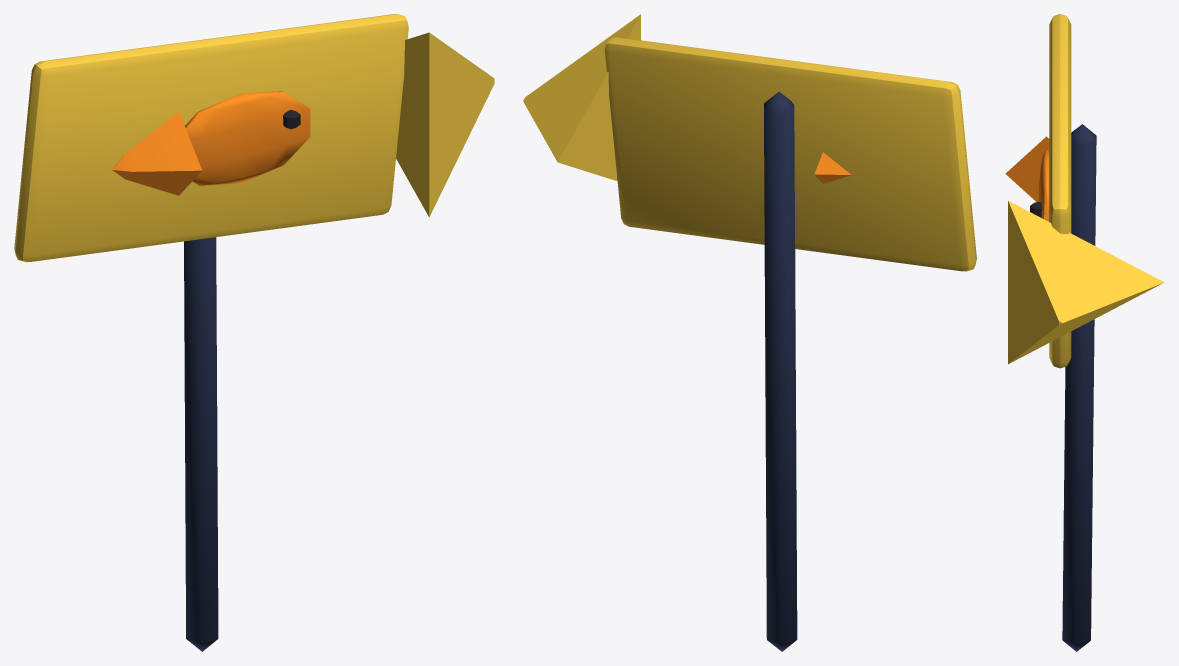
File: W1_Sign_B.fbx
3 renders of one model, left to right at view 1: azimuth 30°, elevation 25°; view 2: azimuth 150°, elevation 25°; view 3: azimuth 270°, elevation 25°, orthographic. The views are drawn at different scales.
Parts seen in each view (by area): view 1: W1_Sign_B; view 2: W1_Sign_B; view 3: W1_Sign_B.
Part boxes in pixels (x1,y1,x2,y2): W1_Sign_B: (14, 14, 494, 651); W1_Sign_B: (523, 14, 976, 651); W1_Sign_B: (1005, 14, 1164, 651).
Bounding box in the file's own units: 1.78 × 2.27 × 0.58.
